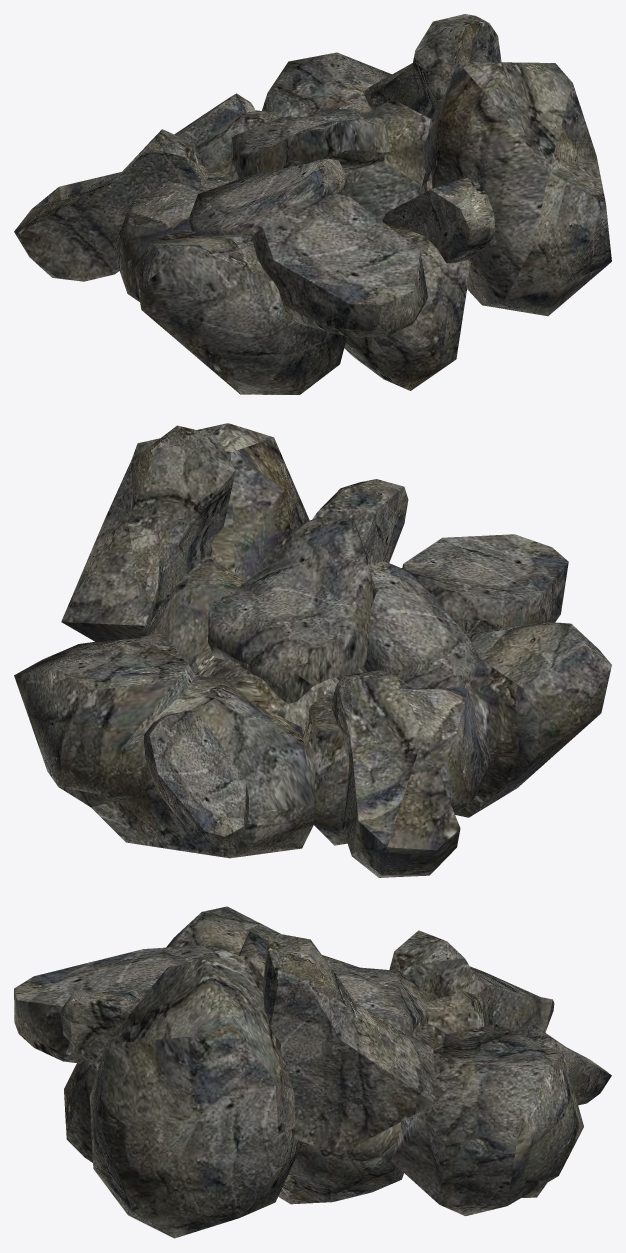
File: caverocks_cluster02.glb
The picture shows the model from 3 angles, top to bottom: view 1: azimuth 30°, elevation 25°; view 2: azimuth 150°, elevation 25°; view 3: azimuth 270°, elevation 25°; orthographic projection. The views are drawn at different scales.
Visible parts, largest first — view 1: 0_rockwall_cave01a; view 2: 0_rockwall_cave01a; view 3: 0_rockwall_cave01a.
Boxes of the visible parts, x1=… form: 0_rockwall_cave01a: x1=14, y1=14, x2=611, y2=394; 0_rockwall_cave01a: x1=14, y1=423, x2=611, y2=877; 0_rockwall_cave01a: x1=14, y1=906, x2=611, y2=1238.
Bounding box in the file's own units: 2.23 × 1.45 × 2.46.
1 material, 1 textured.
